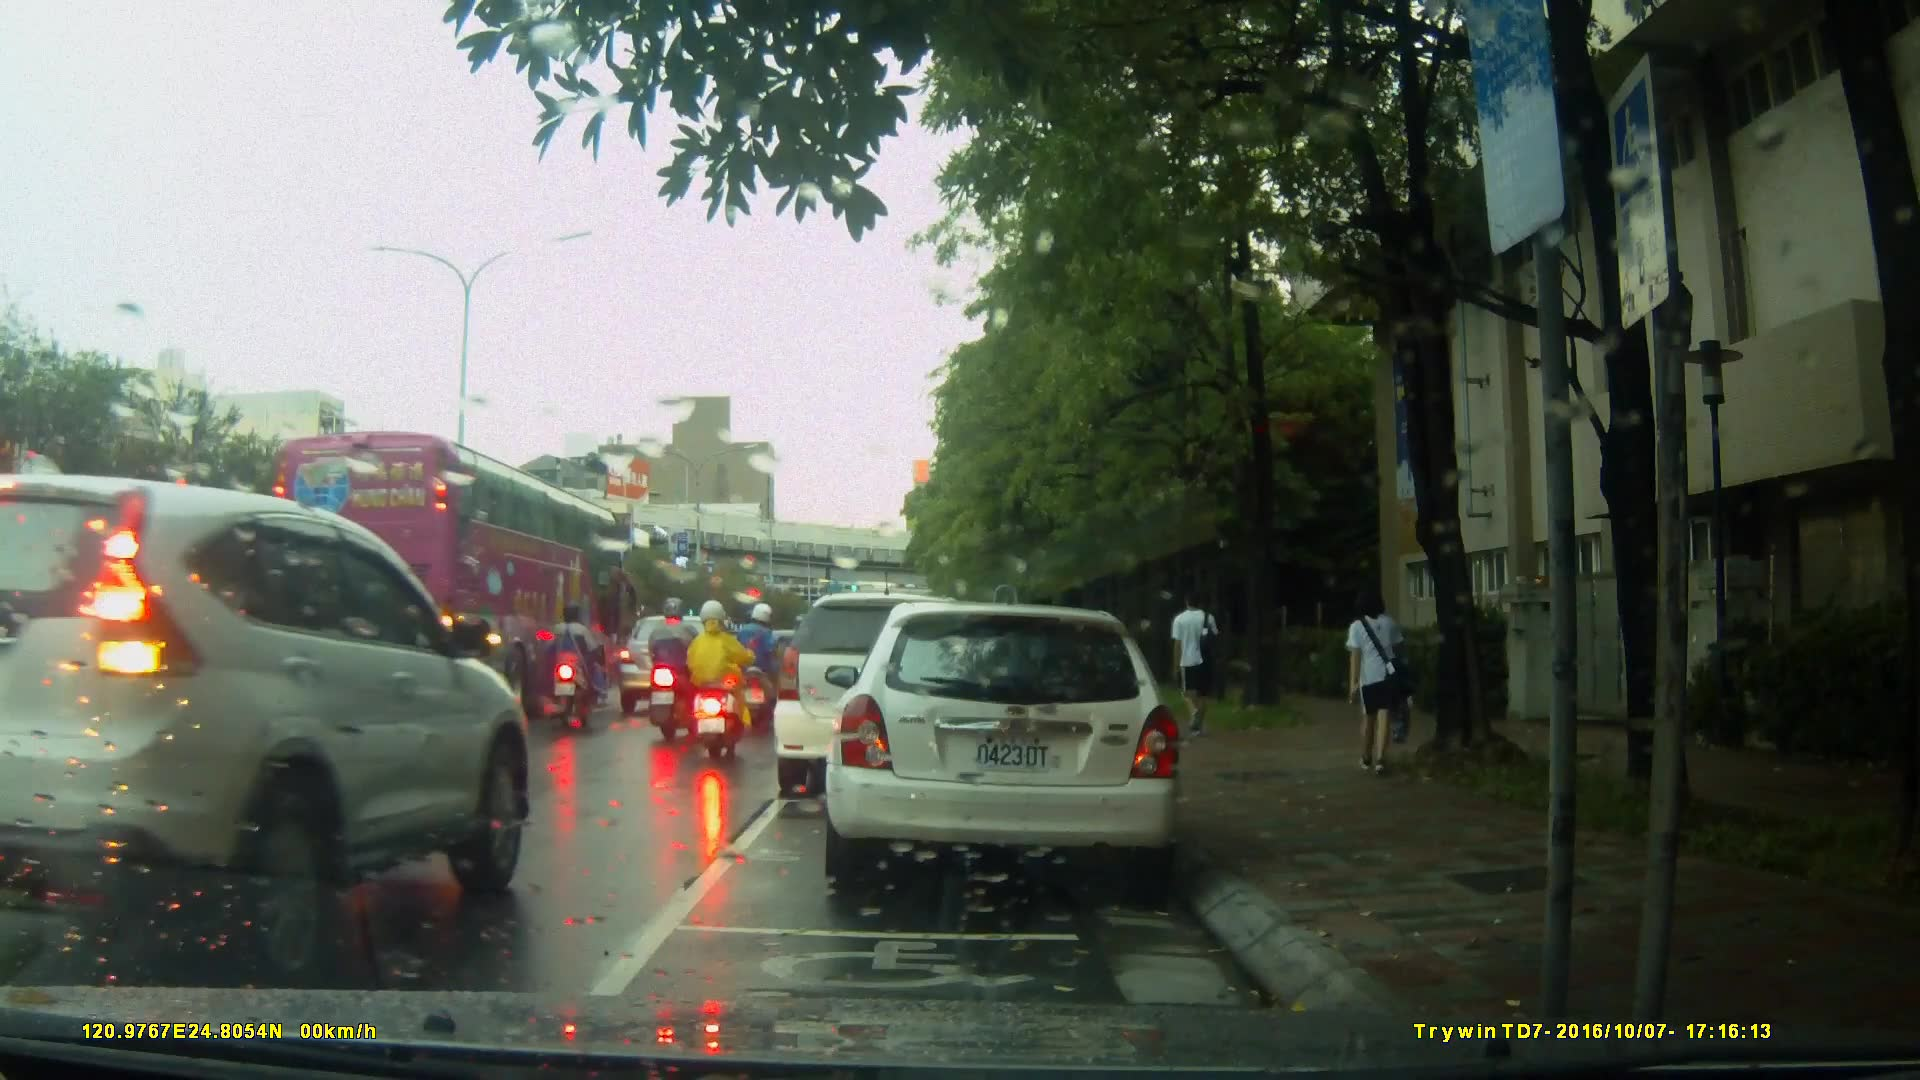pedestrian: (1340, 580, 1425, 788), (1161, 585, 1216, 738)
rider: (684, 599, 745, 761), (642, 593, 696, 741), (731, 605, 791, 727), (548, 605, 604, 727)
vehicle: (1, 470, 534, 988), (835, 594, 1194, 898), (260, 429, 631, 710), (776, 590, 1026, 784), (616, 615, 736, 708)
